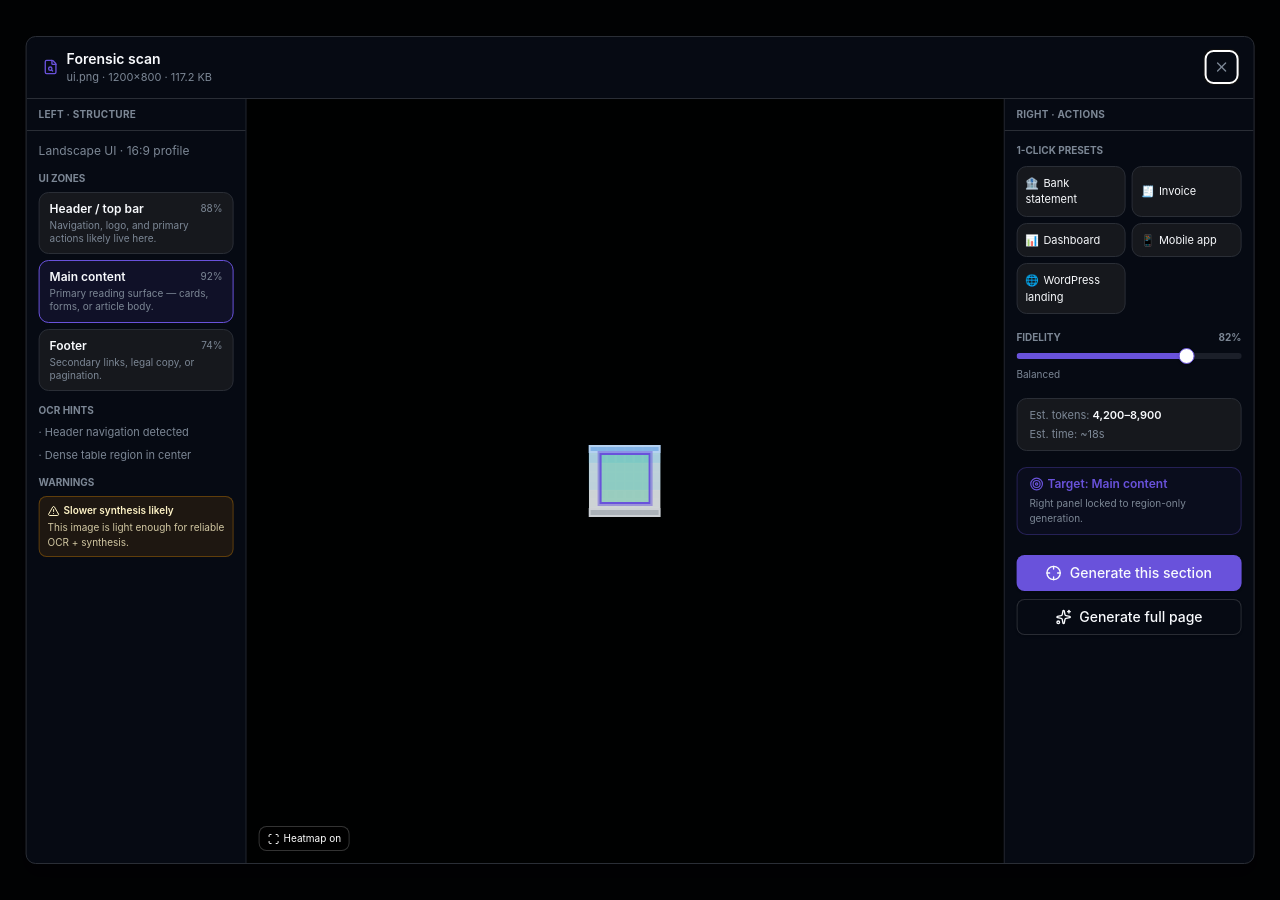
Test: buttons › forensic-lightbox › preset Dashboard — toggles active state
The width and height of the screenshot is (1280, 900).
Later steps or results of the test are not shown.
Click the button "📊Dashboard".
click(1071, 240)  # box [1016, 222, 1126, 257]
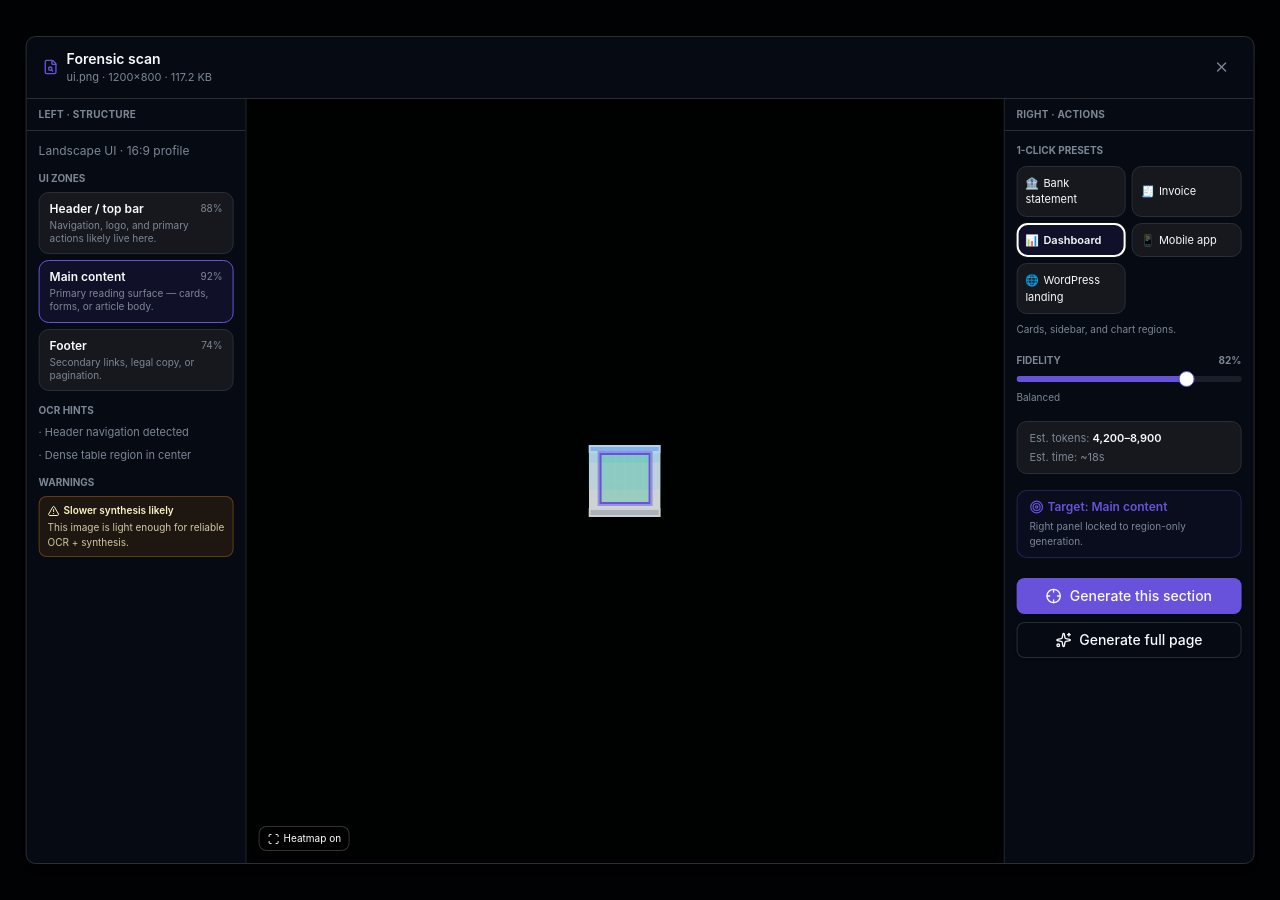
Expected: the button "📊Dashboard" has class "border-primary", [1016, 222, 1126, 257]
